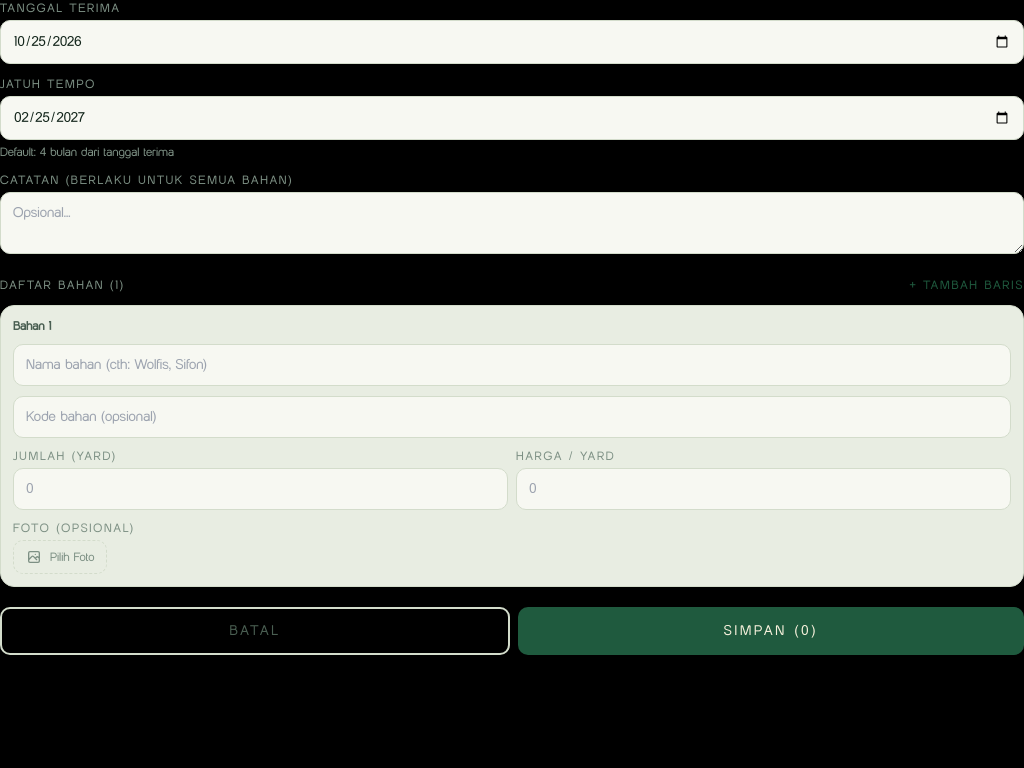
Scenario: PembelianBulkForm › removes a row when × clicked (when > 1 row)
This screenshot has width=1024, height=768.
Click the button "+ Tambah Baris". click: (967, 285)
box: [909,277,1023,293]
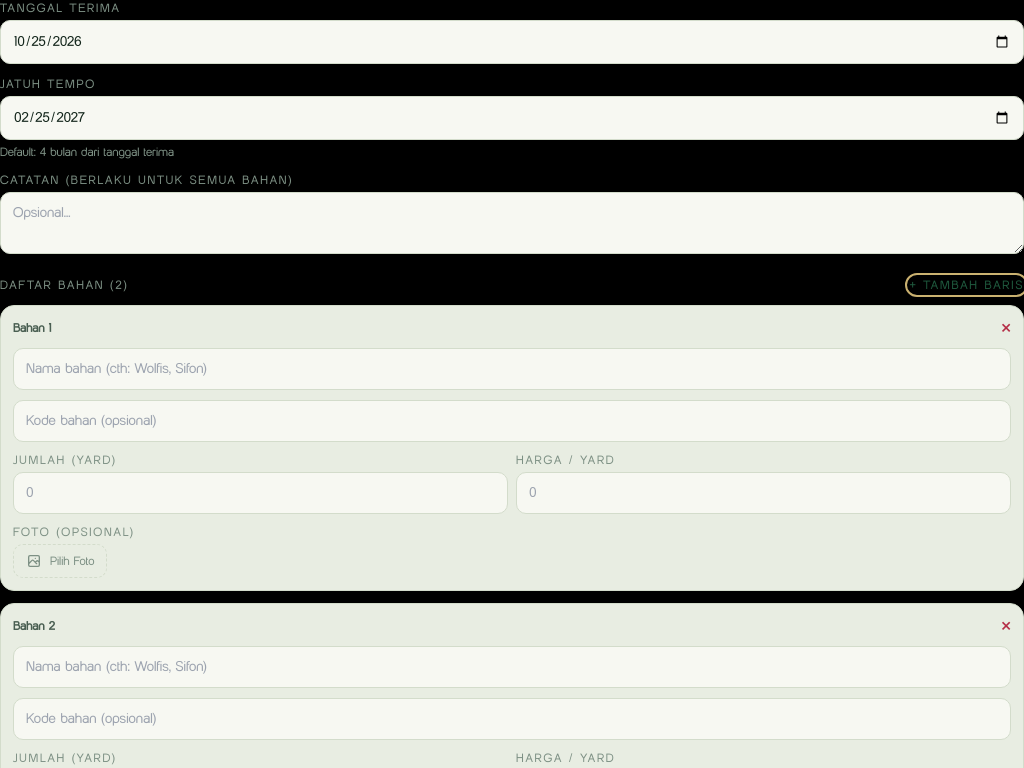
Expected: the text "Bahan 2" is shown, [13,618,55,634]
Click the 1st button "×". click: (1006, 328)
box: [1001,318,1011,338]
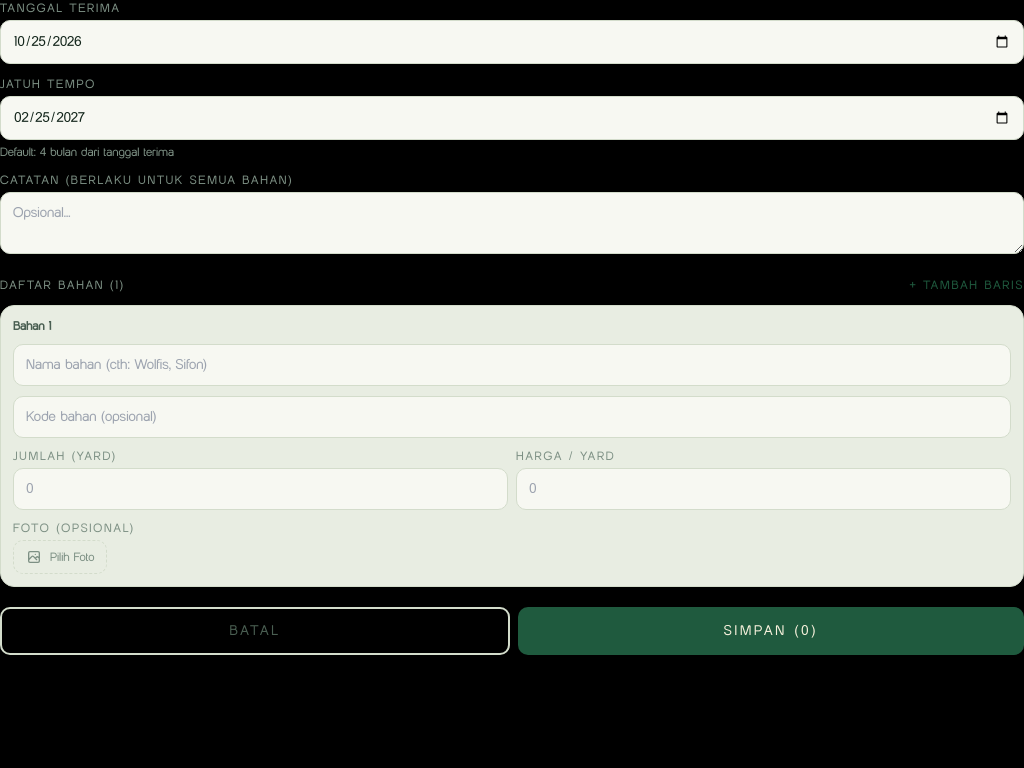
Expected: the text "Bahan 2" is gone
